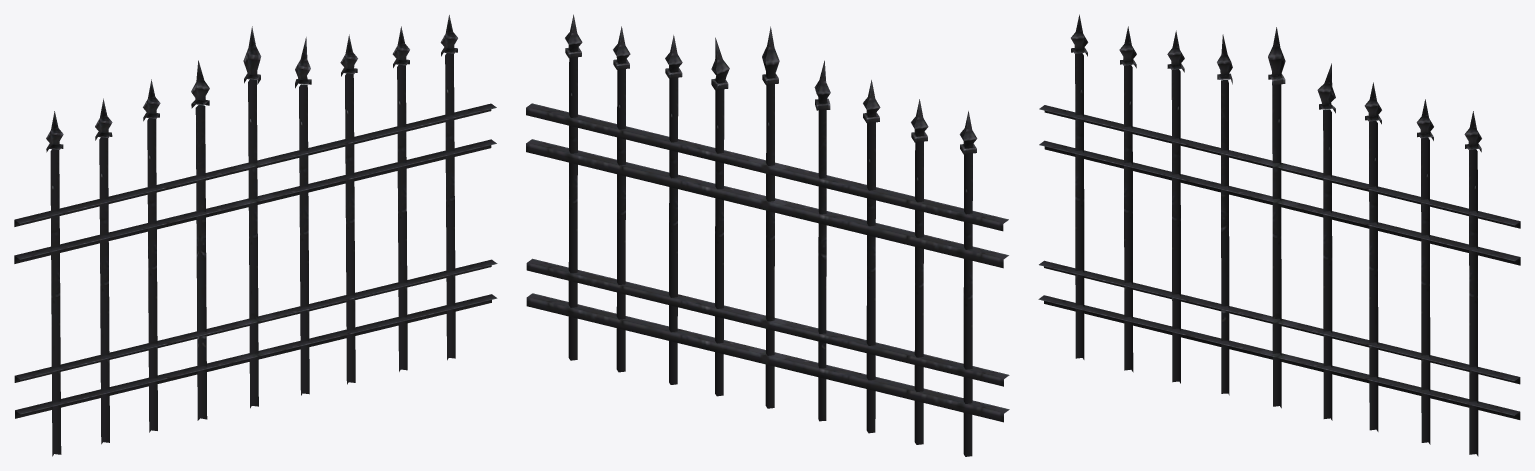
The model's file is wdsy_jiguan.FBX.
3 views of the same model, side by side, from view 1: azimuth 30°, elevation 25°; view 2: azimuth 150°, elevation 25°; view 3: azimuth 330°, elevation 25° (orthographic).
Visible parts, largest first — view 1: wdsy_jiguan; view 2: wdsy_jiguan; view 3: wdsy_jiguan.
Part boxes in pixels (x1=…): wdsy_jiguan: x1=14, y1=15, x2=497, y2=456; wdsy_jiguan: x1=526, y1=14, x2=1009, y2=456; wdsy_jiguan: x1=1038, y1=14, x2=1520, y2=456.
Size of the model in its own units: 666 by 509 by 24.41.
